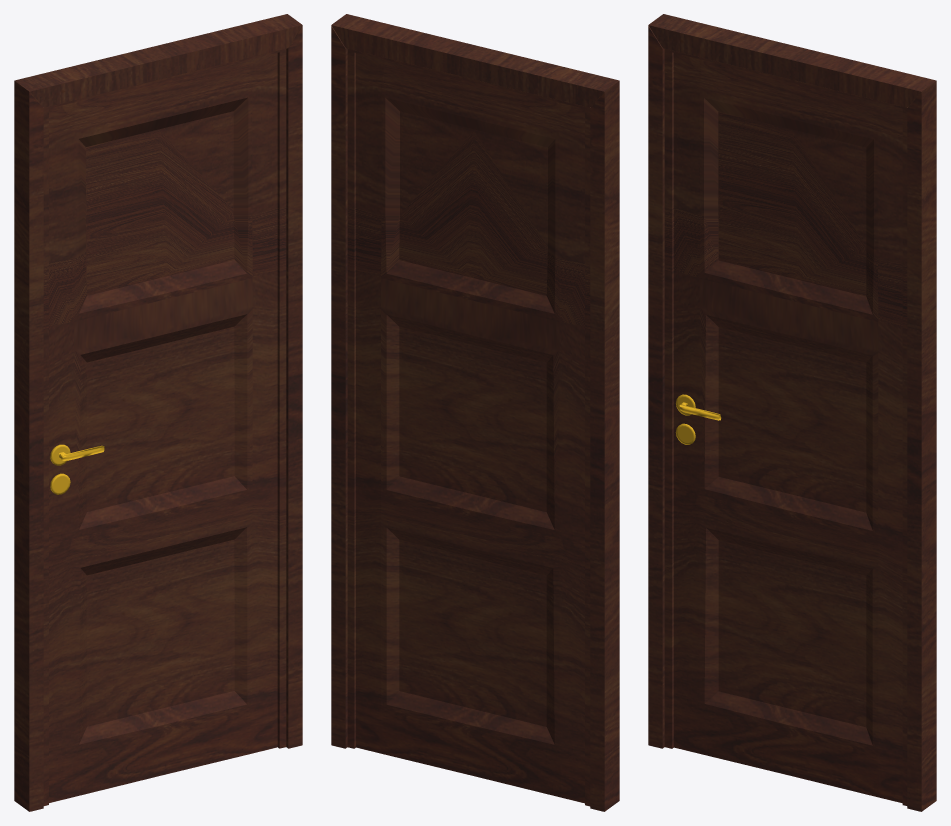
Rendered from PUERTA30_PISA.glb.
3 renders of one model, left to right at view 1: azimuth 30°, elevation 25°; view 2: azimuth 150°, elevation 25°; view 3: azimuth 330°, elevation 25°, orthographic.
Visible parts, largest first — view 1: Puerta30_PISA, Puerta30_Marco, Puerta30_Cerradura; view 2: Puerta30_PISA, Puerta30_Marco; view 3: Puerta30_PISA, Puerta30_Marco, Puerta30_Cerradura.
Part boxes in pixels (box(x1,y1,x2,y2)): Puerta30_PISA: box(43, 49, 286, 805); Puerta30_Marco: box(14, 14, 302, 811); Puerta30_Cerradura: box(50, 444, 104, 494); Puerta30_PISA: box(347, 49, 590, 806); Puerta30_Marco: box(331, 14, 619, 811); Puerta30_PISA: box(664, 49, 907, 805); Puerta30_Marco: box(648, 14, 936, 811); Puerta30_Cerradura: box(675, 394, 721, 444).
Size of the model in its own units: 769 by 1936 by 85.
4 materials, 3 textured.
